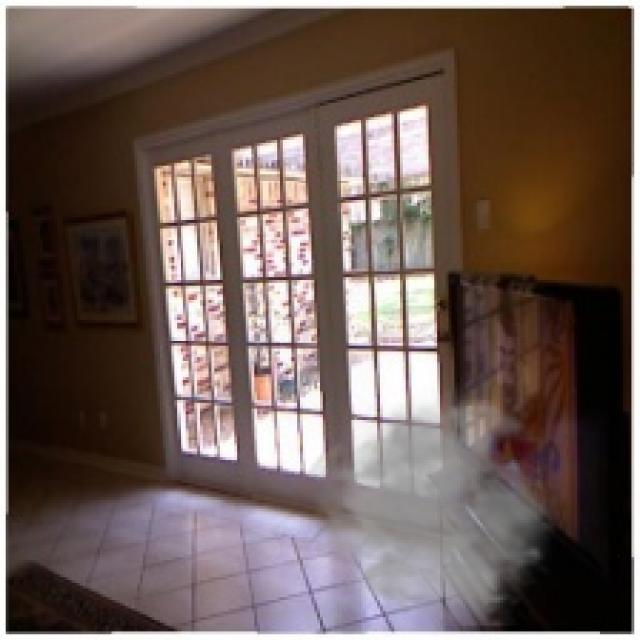smoke: (303, 380, 560, 626)
